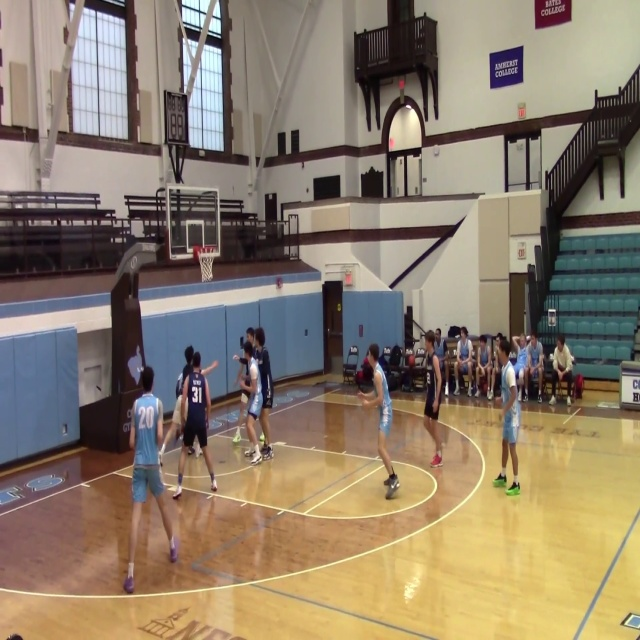Basketball: (502, 364, 516, 389), (258, 433, 265, 442)
